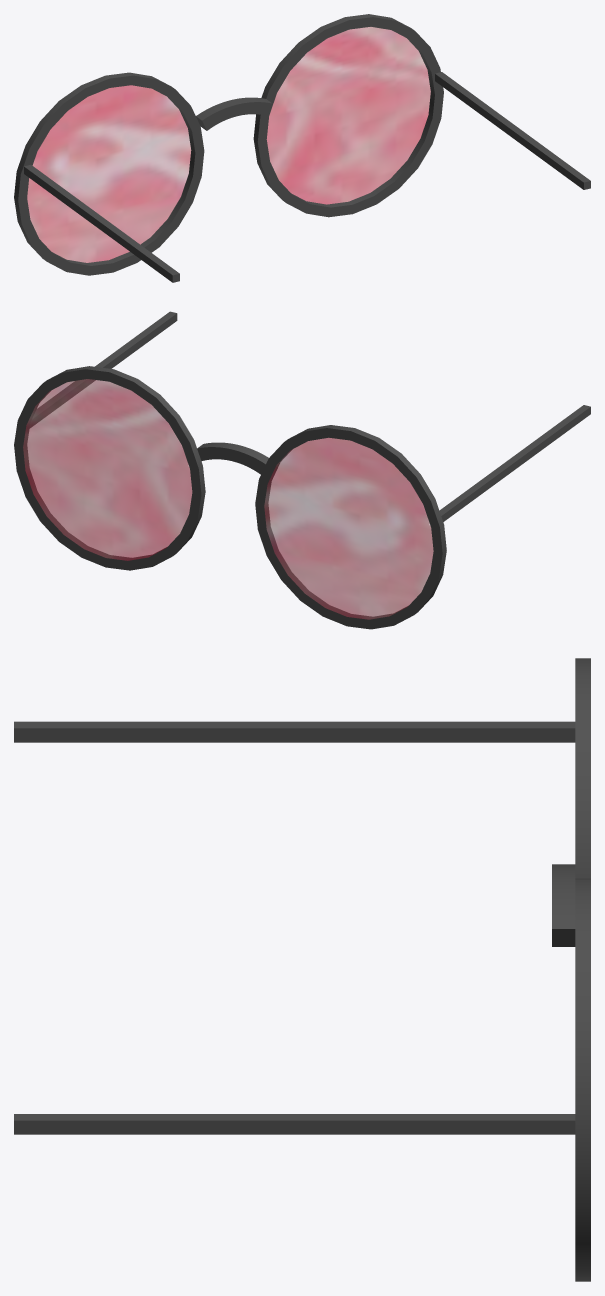
The model's file is glasses.fbx.
3 renders of one model, top to bottom at view 1: azimuth 30°, elevation 25°; view 2: azimuth 150°, elevation 25°; view 3: azimuth 270°, elevation 25°, orthographic. The views are drawn at different scales.
Parts seen in each view (by area): view 1: Component_1_1; view 2: Component_1_1; view 3: Component_1_1.
Boxes of the visible parts, box(x1,y1,x2,y2) form: Component_1_1: box(14, 14, 590, 282); Component_1_1: box(14, 311, 590, 629); Component_1_1: box(14, 658, 590, 1281).
Size of the model in its own units: 1.19 by 0.5199 by 0.74.
